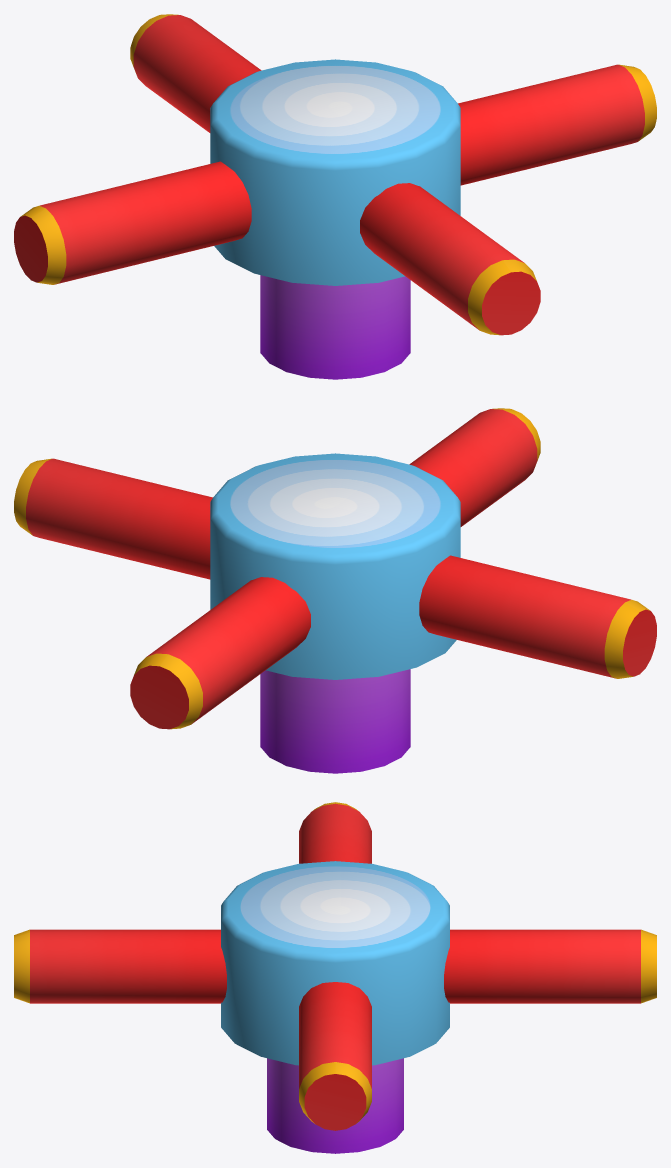
Rendered from obs_01.fbx.
3 views of the same model, one above another, from view 1: azimuth 30°, elevation 25°; view 2: azimuth 150°, elevation 25°; view 3: azimuth 270°, elevation 25° (orthographic). The views are drawn at different scales.
Visible parts, largest first — view 1: obs_01; view 2: obs_01; view 3: obs_01.
Boxes of the visible parts, x1,y1,x2,y2 form: obs_01: [14, 14, 656, 379]; obs_01: [14, 408, 656, 773]; obs_01: [14, 802, 656, 1153].
Size of the model in its own units: 231 by 86.04 by 231.
